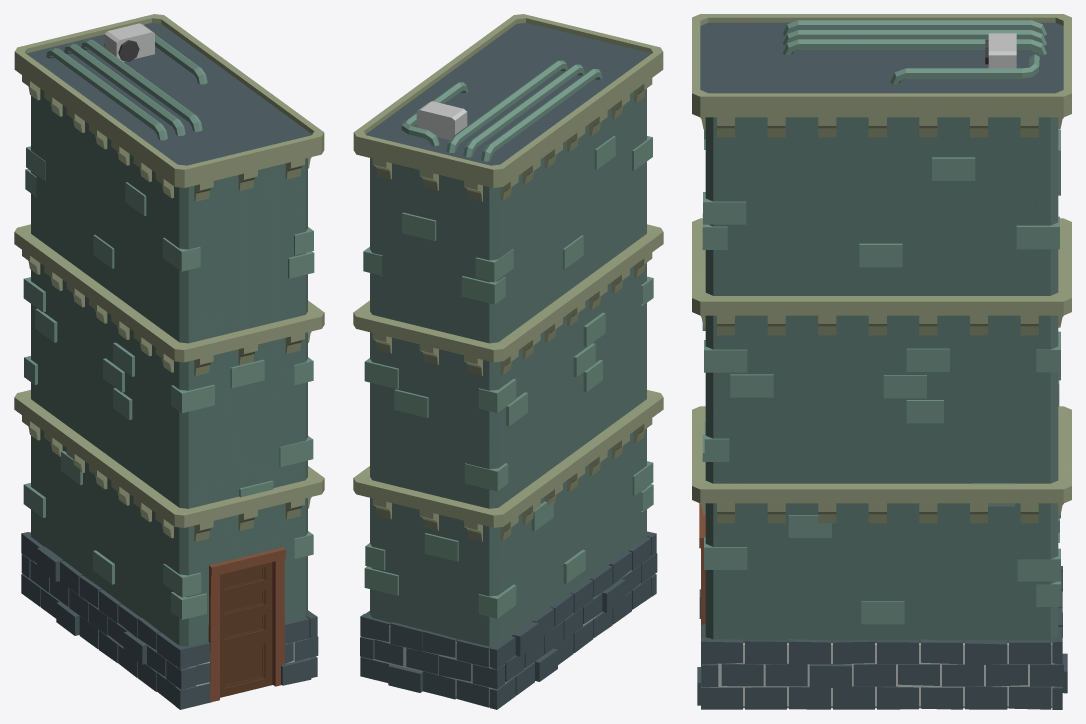
File: three_story_slim_mat.glb
The picture shows the model from 3 angles, left to right: view 1: azimuth 30°, elevation 25°; view 2: azimuth 150°, elevation 25°; view 3: azimuth 270°, elevation 25°; orthographic projection. The views are drawn at different scales.
Visible parts, largest first — view 1: 3Story_Slim_Mat; view 2: 3Story_Slim_Mat; view 3: 3Story_Slim_Mat.
Boxes of the visible parts, x1,y1,x2,y2 form: 3Story_Slim_Mat: [14, 14, 324, 709]; 3Story_Slim_Mat: [353, 14, 663, 709]; 3Story_Slim_Mat: [692, 14, 1071, 709].
Bounding box in the file's own units: 1.12 × 3.99 × 2.15.
Materials: 1 (1 with a texture image).
